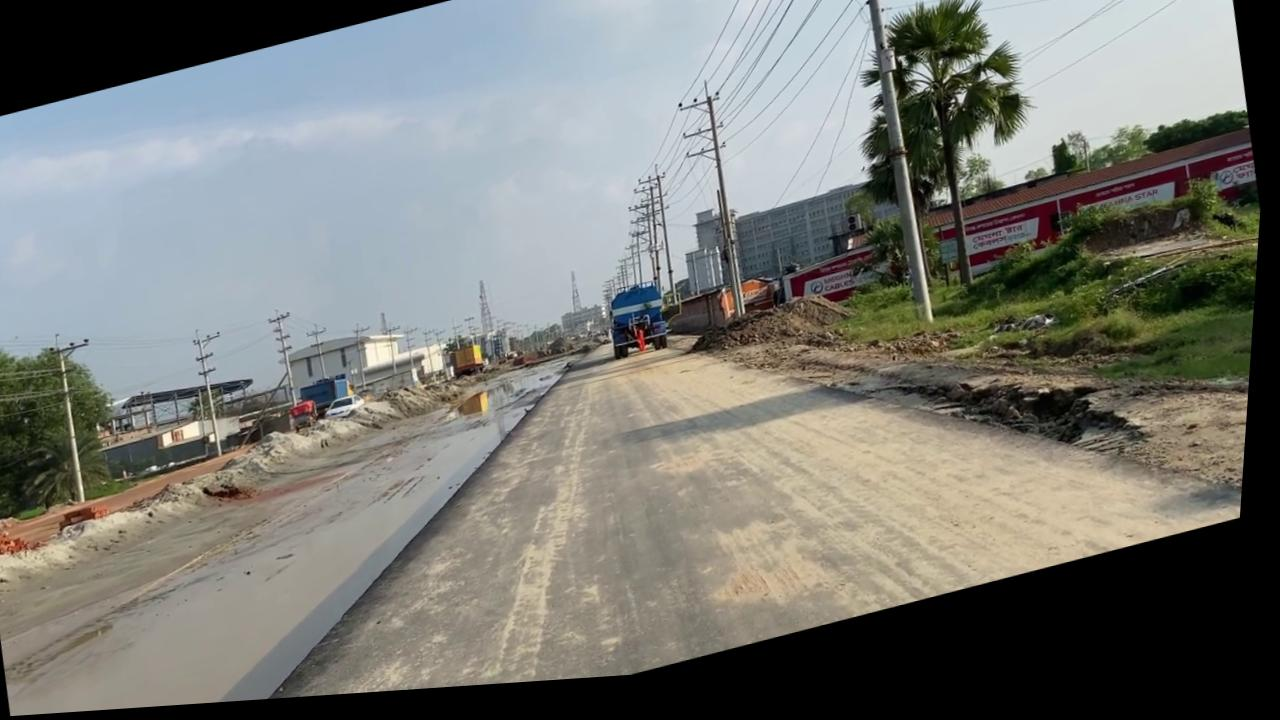Car: (327, 396, 372, 426)
Pole: (827, 0, 959, 346), (48, 331, 101, 507)
Sidewalk: (0, 344, 659, 719)
Traffic-sign: (828, 0, 1076, 325)
Tree: (609, 290, 680, 372), (303, 378, 364, 423), (451, 349, 492, 387), (291, 401, 327, 438)
